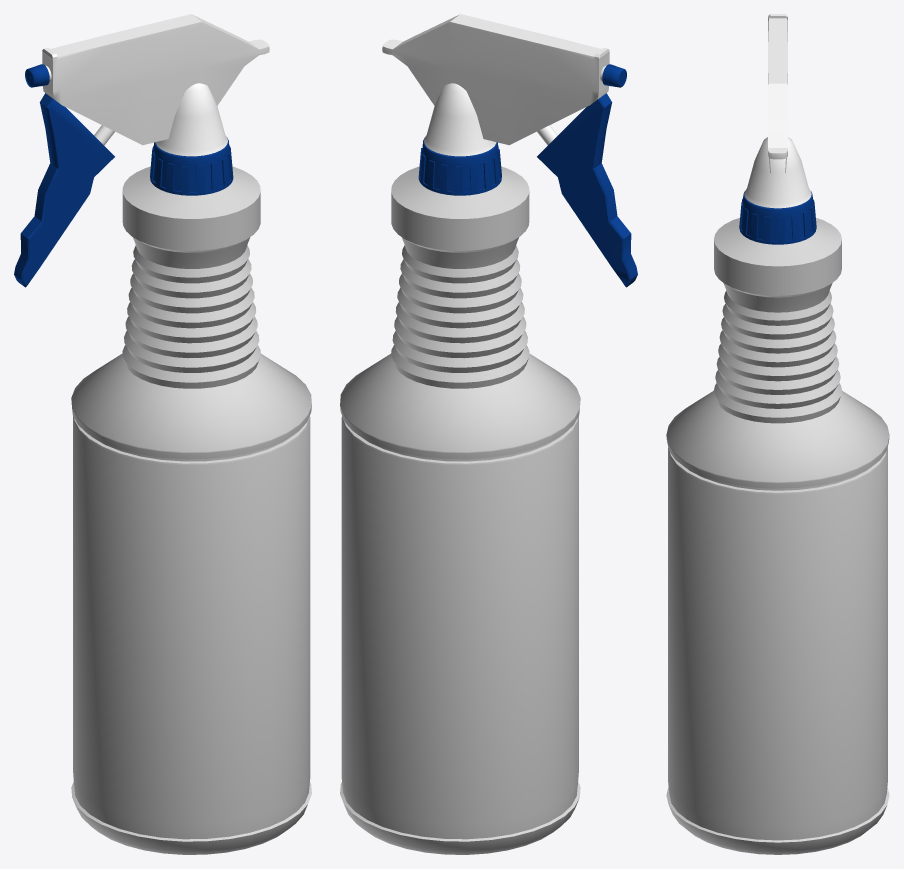
Rendered from spray_bottle.glb.
3 renders of one model, left to right at view 1: azimuth 30°, elevation 25°; view 2: azimuth 150°, elevation 25°; view 3: azimuth 270°, elevation 25°, orthographic. The views are drawn at different scales.
Parts seen in each view (by area): view 1: Spray Bottle; view 2: Spray Bottle; view 3: Spray Bottle.
Part boxes in pixels (box(x1,y1,x2,y2)): Spray Bottle: box(14, 14, 311, 854); Spray Bottle: box(340, 14, 637, 854); Spray Bottle: box(666, 14, 889, 854).
Bounding box in the file's own units: 1.56 × 4.26 × 1.17.
